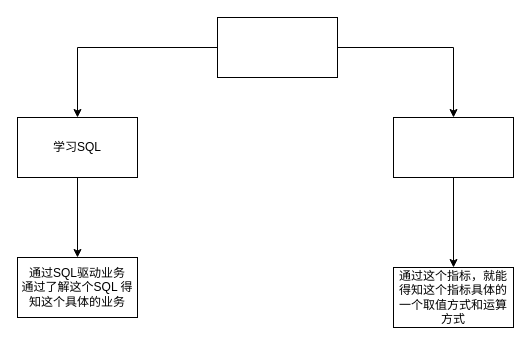
This 531x345 diagram has some shape labels left out. The centre of each missing label's shape, as x and y in pixels:
"开始" belongs at [277,47].
"熟悉业务" belongs at [453,147].
